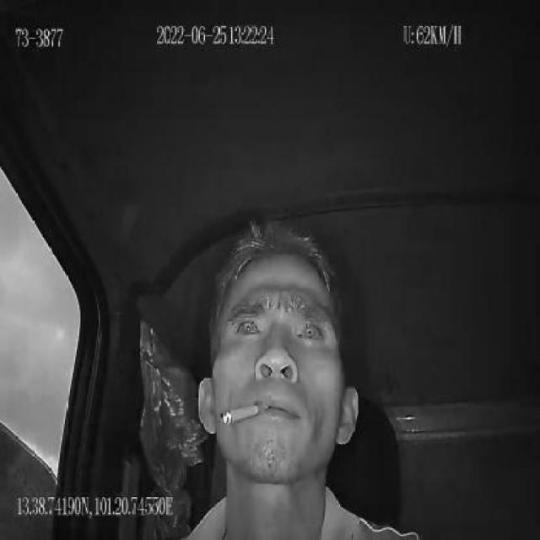smoking: (220, 402, 268, 428)
